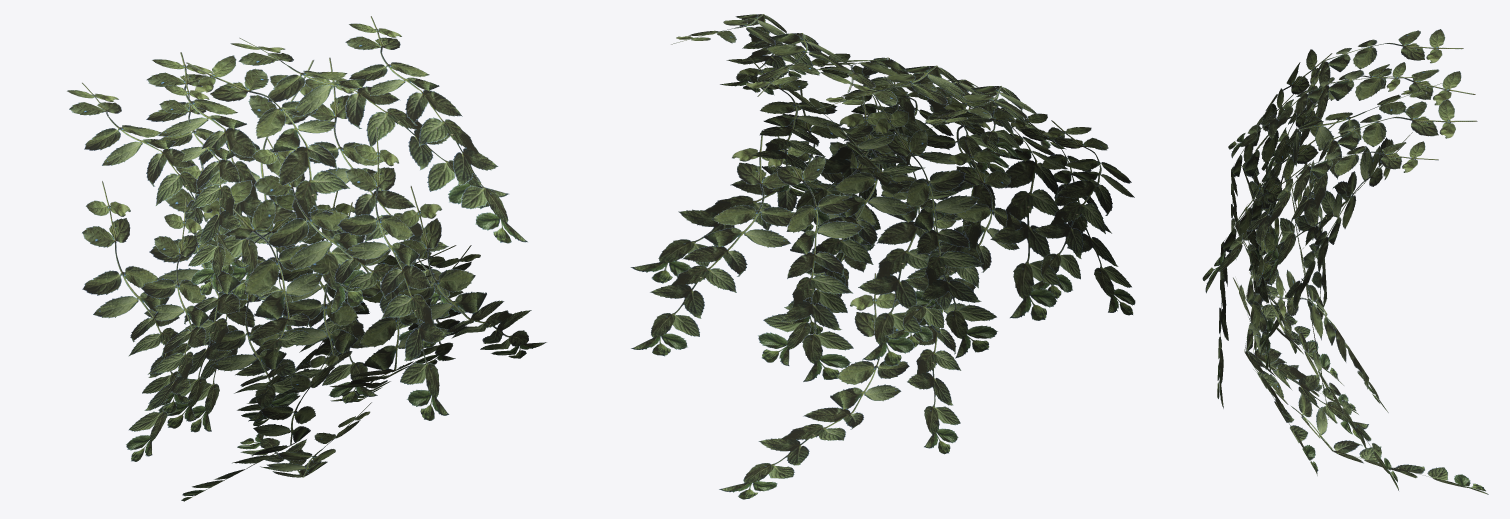
The model's file is SM_Veg_Ivy_02.FBX.
The picture shows the model from 3 angles, left to right: view 1: azimuth 30°, elevation 25°; view 2: azimuth 150°, elevation 25°; view 3: azimuth 270°, elevation 25°; orthographic projection. The views are drawn at different scales.
Parts seen in each view (by area): view 1: SM_Veg_Ivy_02; view 2: SM_Veg_Ivy_02; view 3: SM_Veg_Ivy_02.
Part boxes in pixels (x1,y1,x2,y2): SM_Veg_Ivy_02: (67, 16, 546, 501); SM_Veg_Ivy_02: (630, 14, 1135, 499); SM_Veg_Ivy_02: (1202, 29, 1488, 494).
Size of the model in its own units: 2.98 by 2.25 by 1.59.
